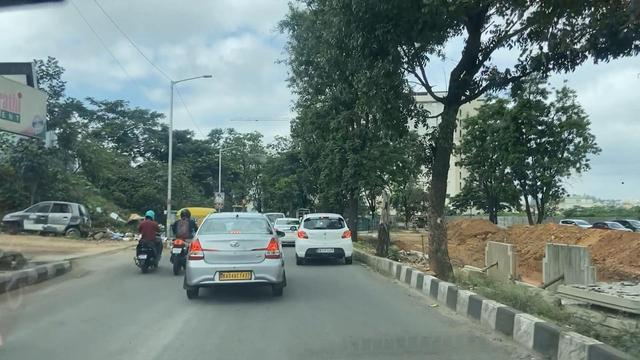LMV: (193, 228, 288, 296), (298, 213, 352, 252), (134, 212, 159, 272)
